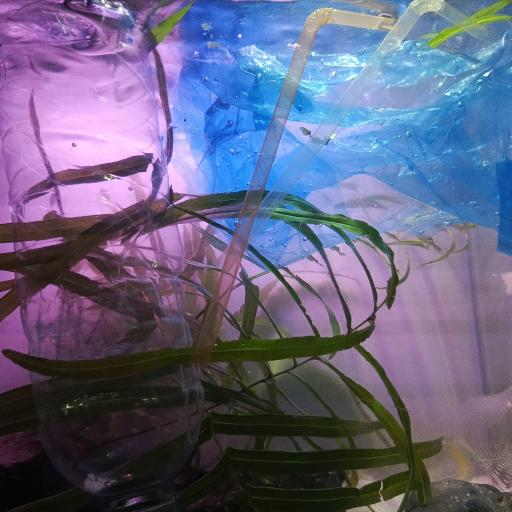plastic_bag: (173, 2, 512, 270)
plastic_bottle: (0, 0, 209, 512), (432, 389, 512, 482)
plastic_straw: (202, 9, 392, 348), (251, 0, 491, 250)
